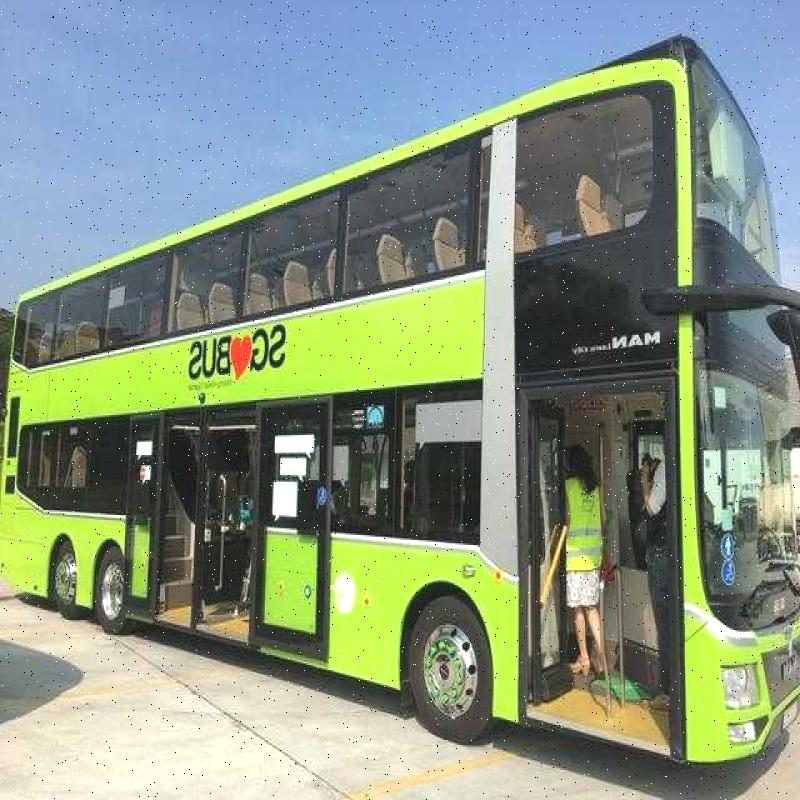bus: (0, 35, 777, 722)
